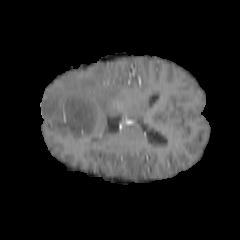glioma: (41, 65, 120, 134)
